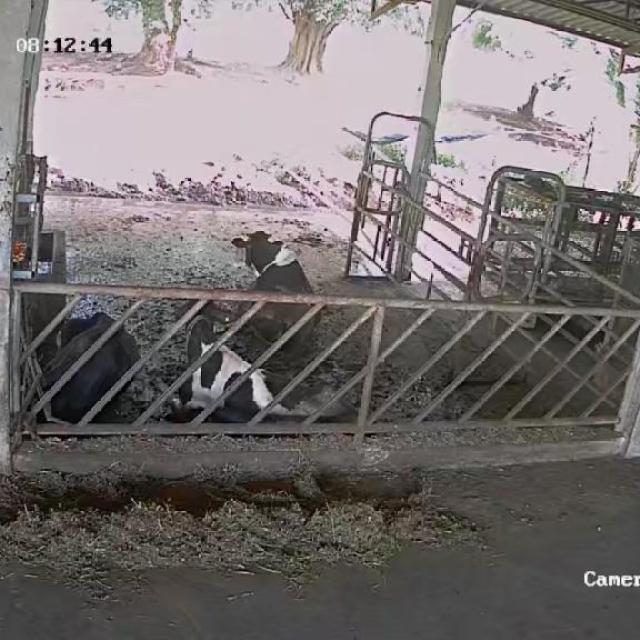lying down: (175, 294, 344, 426), (40, 310, 144, 423), (234, 234, 326, 346)
